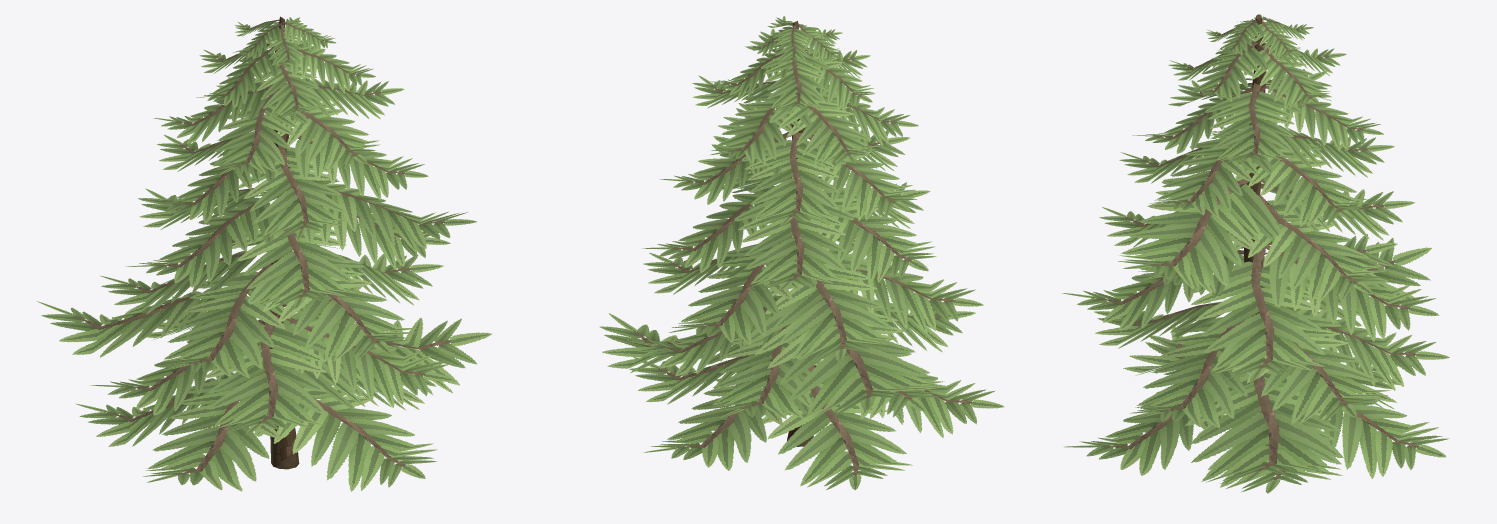
File: tree_pine_1.glb
3 views of the same model, side by side, from view 1: azimuth 30°, elevation 25°; view 2: azimuth 150°, elevation 25°; view 3: azimuth 270°, elevation 25° (orthographic). The views are drawn at different scales.
Parts seen in each view (by area): view 1: Pine_1; view 2: Pine_1; view 3: Pine_1.
Part boxes in pixels (x1,y1,x2,y2): Pine_1: (36, 16, 491, 491); Pine_1: (599, 16, 1004, 490); Pine_1: (1062, 14, 1449, 493).
Size of the model in its own units: 9.18 by 9 by 8.03.
Materials: 2 (2 with a texture image).
